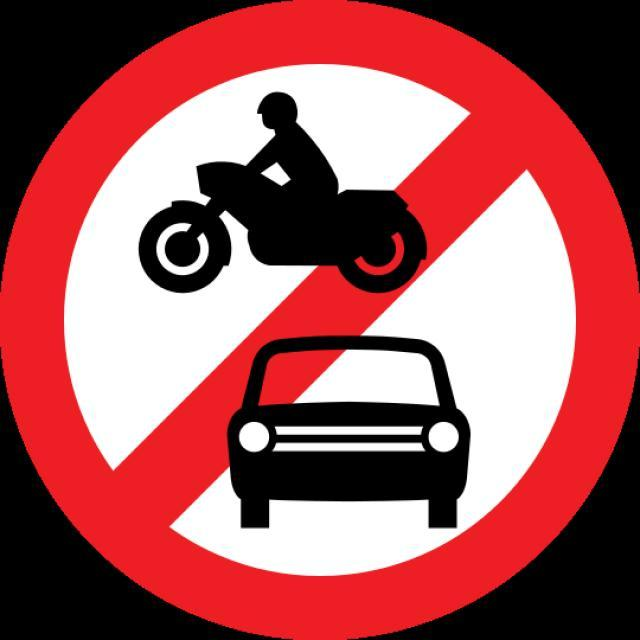all motor vehicle prohibited: (15, 14, 624, 629)
